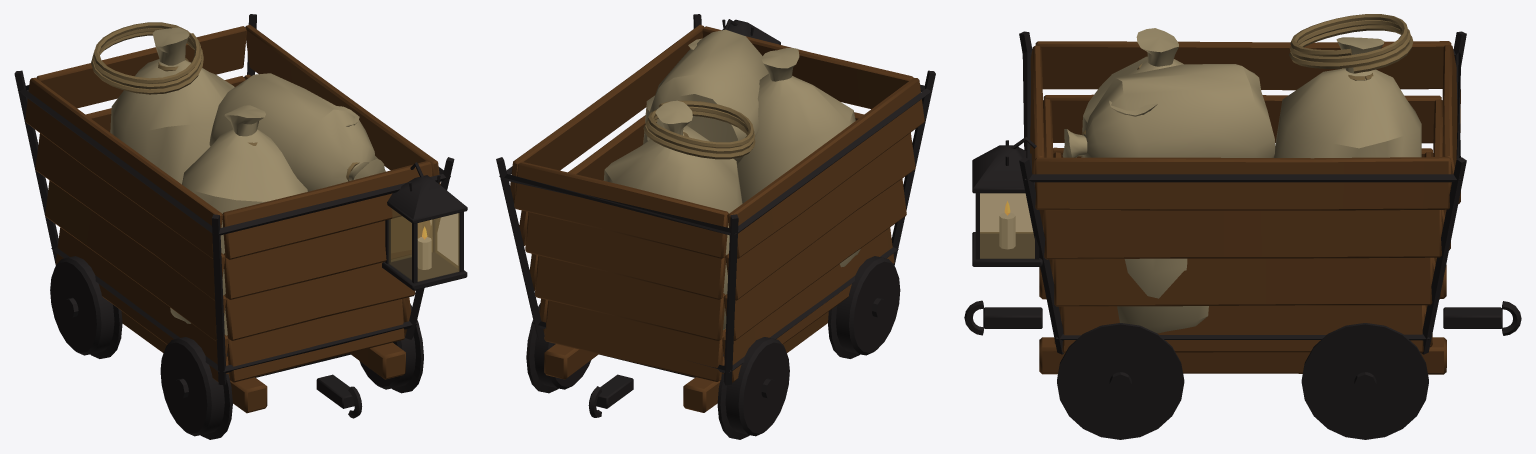
The model's file is grubenlore.glb.
3 renders of one model, left to right at view 1: azimuth 30°, elevation 25°; view 2: azimuth 150°, elevation 25°; view 3: azimuth 270°, elevation 25°, orthographic. The views are drawn at different scales.
Parts seen in each view (by area): view 1: grubenlore; view 2: grubenlore; view 3: grubenlore.
Part boxes in pixels (x1=…): grubenlore: x1=14, y1=14, x2=467, y2=439; grubenlore: x1=496, y1=14, x2=935, y2=439; grubenlore: x1=964, y1=14, x2=1521, y2=439.
Size of the model in its own units: 0.8377 by 1.01 by 1.5.
